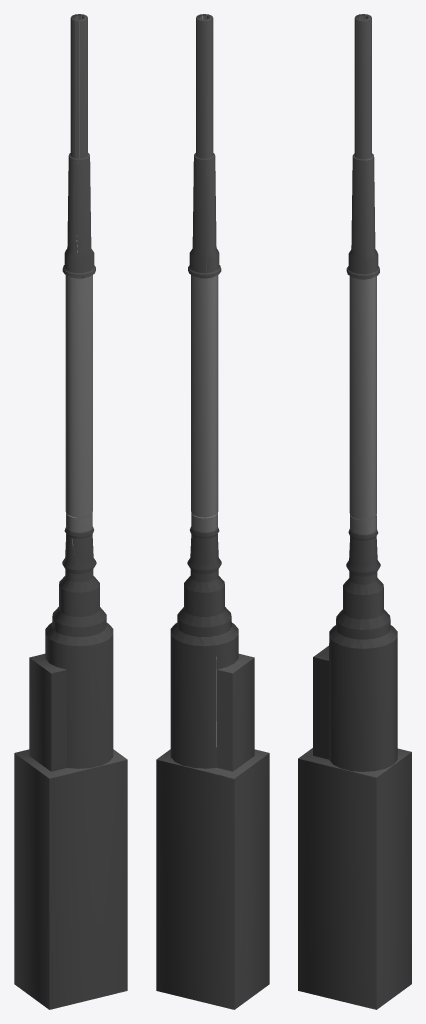
3 renders of one model, left to right at view 1: azimuth 30°, elevation 25°; view 2: azimuth 150°, elevation 25°; view 3: azimuth 330°, elevation 25°, orthographic.
Parts seen in each view (by area): view 1: chang_pao_guan.001; view 2: chang_pao_guan.001; view 3: chang_pao_guan.001.
Part boxes in pixels (x1,y1,x2,y2): chang_pao_guan.001: (14, 14, 127, 1009); chang_pao_guan.001: (156, 14, 269, 1009); chang_pao_guan.001: (298, 14, 411, 1009).
Bounding box in the file's own units: 0.1992 × 2.35 × 0.155.
